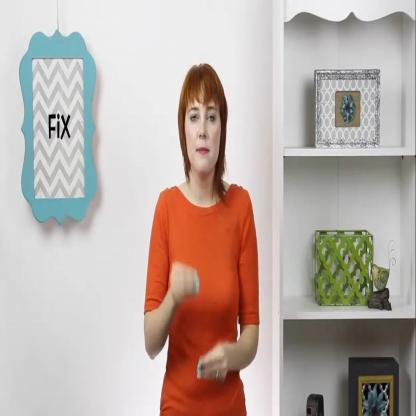Fix: (170, 243, 242, 393)
